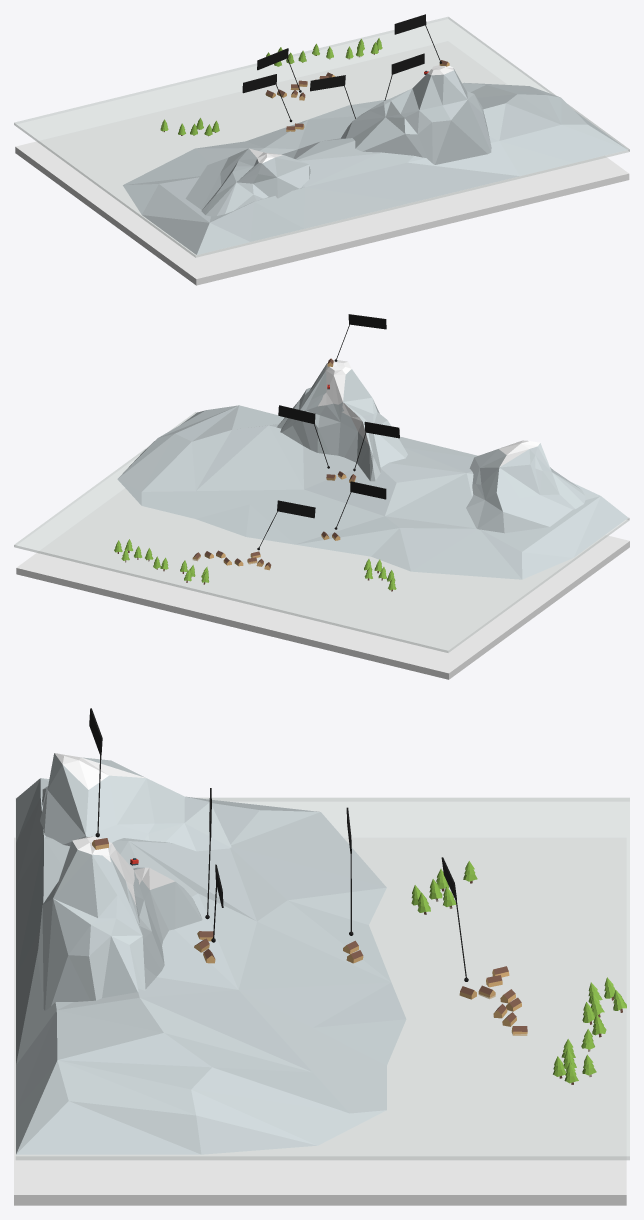
Rendered from mountain.glb.
3 renders of one model, top to bottom at view 1: azimuth 30°, elevation 25°; view 2: azimuth 150°, elevation 25°; view 3: azimuth 270°, elevation 25°, orthographic. The views are drawn at different scales.
Parts seen in each view (by area): view 1: group1914125764, group1493522465, group1399672963, group1837444788, group1366798817, group1776007067, group1501902602, group1193935835, group477234532, group1522627750; view 2: group1914125764, group1399672963, group1493522465, group1366798817, group1837444788, group1522627750; view 3: group1914125764, group1399672963, group1493522465, group1837444788, group1366798817.
Part boxes in pixels (left/top/right/bottom): group1914125764: left=15, top=41, right=629, bottom=285; group1493522465: left=14, top=17, right=629, bottom=257; group1399672963: left=123, top=82, right=627, bottom=254; group1837444788: left=341, top=65, right=491, bottom=164; group1366798817: left=185, top=148, right=310, bottom=216; group1776007067: left=310, top=75, right=355, bottom=118; group1501902602: left=242, top=74, right=292, bottom=121; group1193935835: left=394, top=14, right=441, bottom=63; group477234532: left=384, top=53, right=424, bottom=100; group1522627750: left=257, top=48, right=301, bottom=92; group1914125764: left=16, top=488, right=629, bottom=679; group1399672963: left=117, top=405, right=628, bottom=579; group1493522465: left=14, top=412, right=629, bottom=652; group1366798817: left=466, top=440, right=585, bottom=533; group1837444788: left=276, top=359, right=407, bottom=481; group1522627750: left=257, top=500, right=315, bottom=550; group1914125764: left=14, top=837, right=626, bottom=1205; group1399672963: left=16, top=778, right=406, bottom=1154; group1493522465: left=15, top=797, right=629, bottom=1160; group1837444788: left=37, top=836, right=202, bottom=1010; group1366798817: left=40, top=753, right=231, bottom=851.
Bounding box in the file's own units: 5.65 × 2.37 × 4.1.
